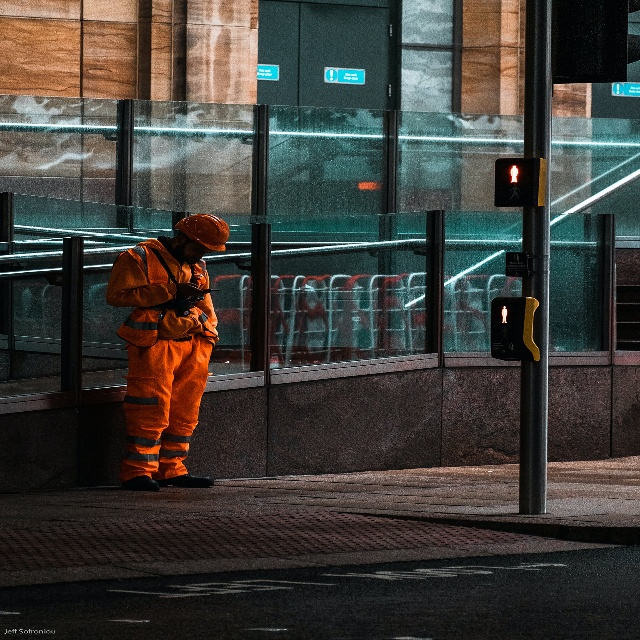Sin_guantes: (175, 281, 203, 296)
